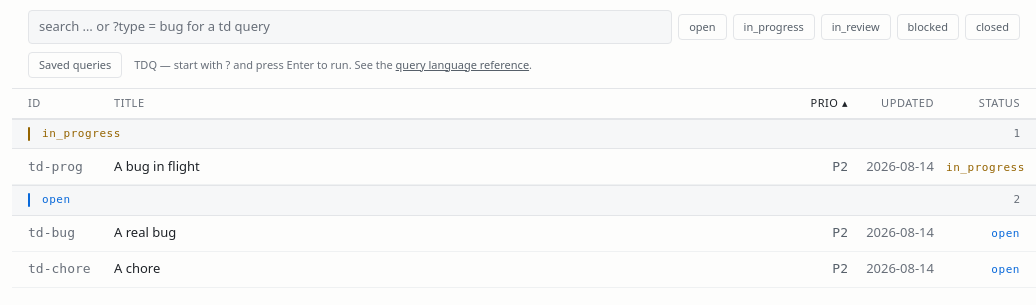
IssueList › TDQ mode › lists exactly the issues the query returned, in the usual groups
Expected: the text "A real bug" is shown, left=114, top=223, right=176, bottom=241
Type "?type = bug" into the search field labelled "search" at point(350, 27), box left=28, top=10, right=672, bottom=44
Then press Enter
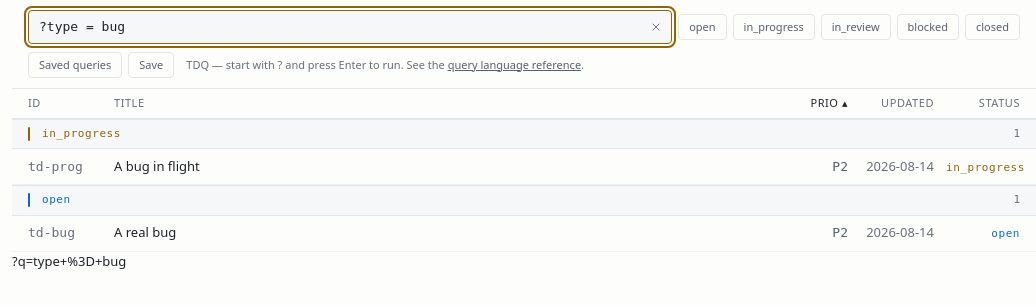
Expected: the text "A bug in flight" is shown, left=114, top=157, right=200, bottom=175
Expected: the link "A chore" is gone
